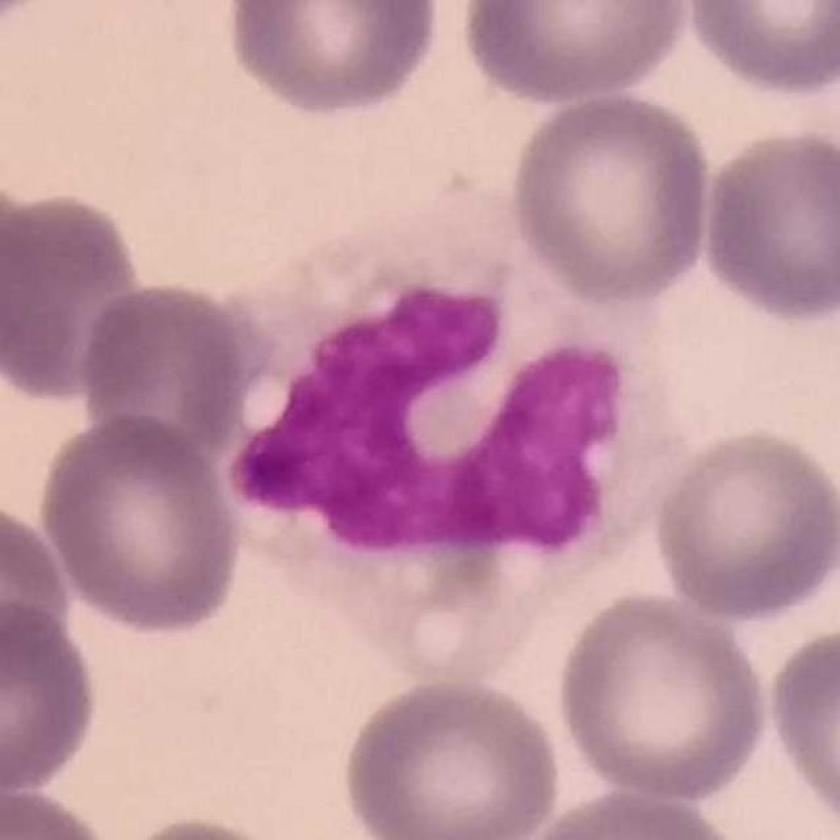monocyte: (220, 174, 681, 685)
